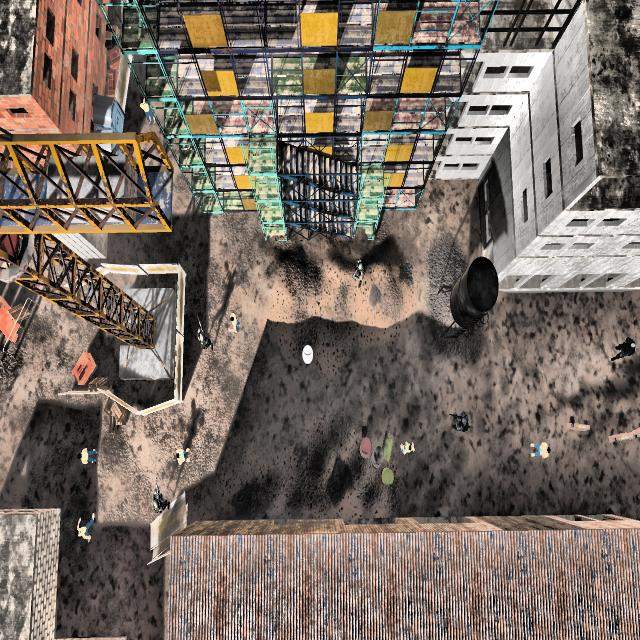bad: (147, 480, 173, 521), (607, 331, 636, 367), (445, 401, 471, 439), (351, 249, 368, 298), (195, 319, 214, 358)
good: (524, 429, 553, 471), (71, 508, 99, 545), (168, 442, 196, 472), (397, 431, 418, 466), (221, 308, 243, 341), (77, 439, 100, 470)
